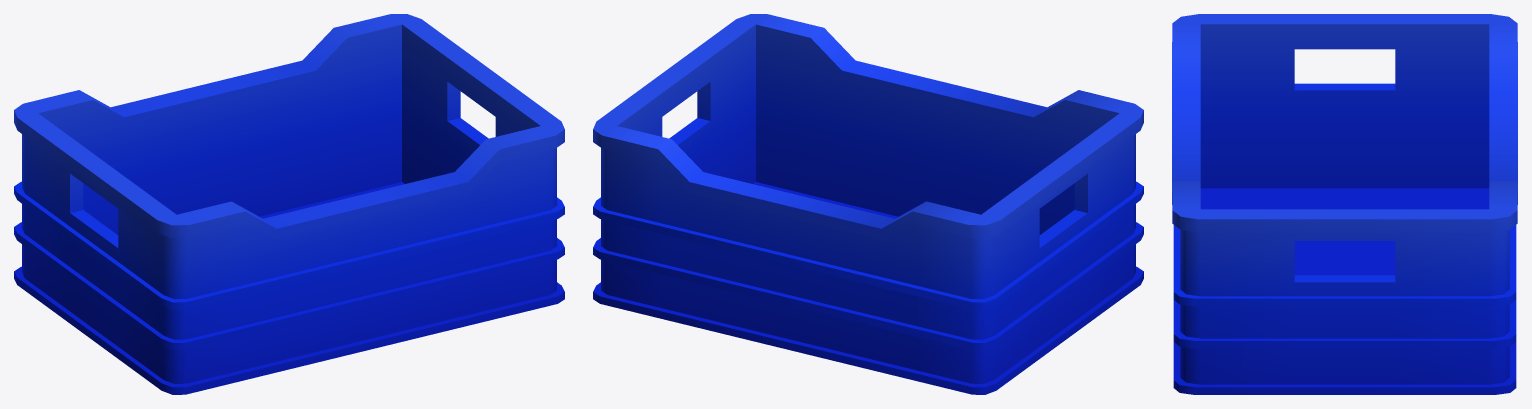
The model's file is Props_Crate_Plastic_01.fbx.
3 views of the same model, side by side, from view 1: azimuth 30°, elevation 25°; view 2: azimuth 150°, elevation 25°; view 3: azimuth 270°, elevation 25° (orthographic). The views are drawn at different scales.
Parts seen in each view (by area): view 1: Props_Crate_Plastic_01; view 2: Props_Crate_Plastic_01; view 3: Props_Crate_Plastic_01.
Boxes of the visible parts, x1,y1,x2,y2 form: Props_Crate_Plastic_01: [14, 14, 564, 394]; Props_Crate_Plastic_01: [593, 14, 1143, 394]; Props_Crate_Plastic_01: [1172, 14, 1517, 394].
Bounding box in the file's own units: 140 × 56.09 × 99.59.
